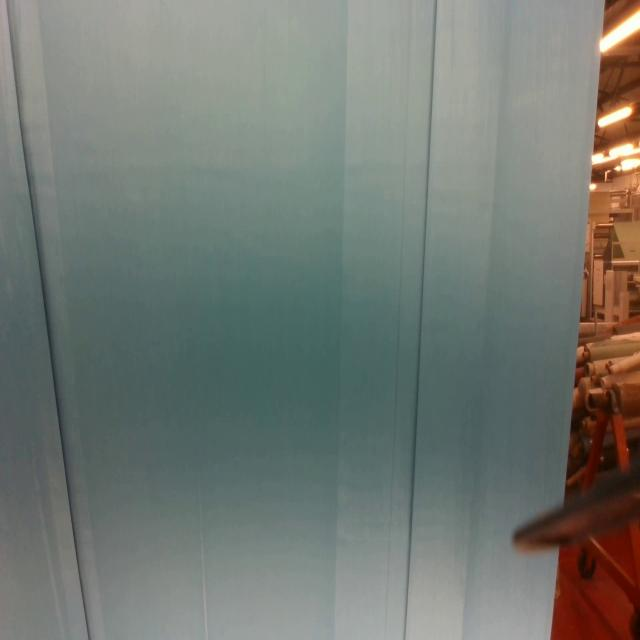crease: (334, 4, 498, 640), (6, 2, 94, 635), (196, 481, 208, 640)
